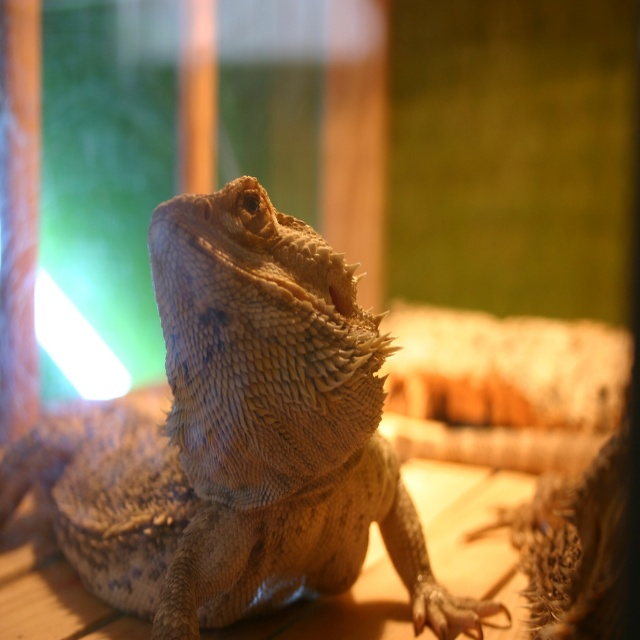Lizard: (61, 179, 537, 640)
